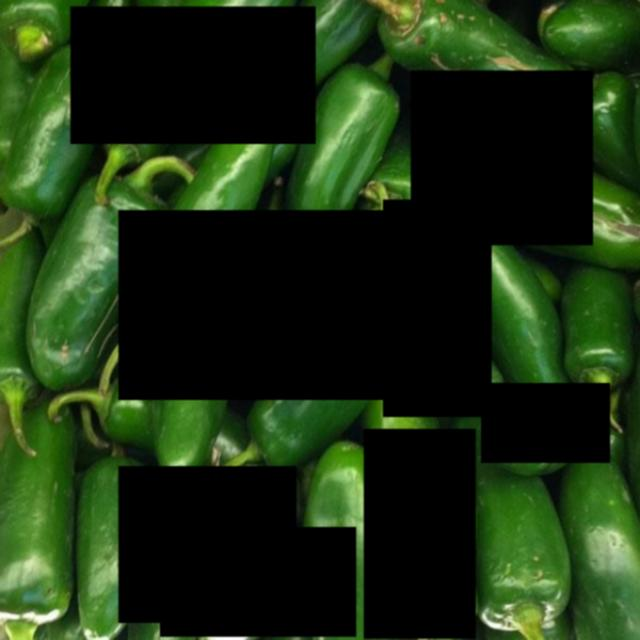Chili_Pepper: (119, 211, 402, 401), (71, 7, 317, 145), (411, 72, 594, 246), (118, 467, 296, 624), (383, 200, 492, 418), (364, 429, 476, 640), (160, 528, 356, 638), (482, 383, 611, 463)
